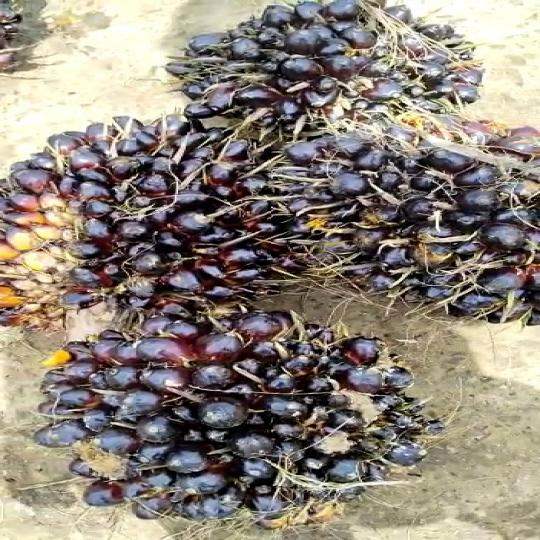mentah: (15, 302, 464, 525), (0, 120, 316, 343), (252, 116, 540, 352), (164, 0, 509, 126)
